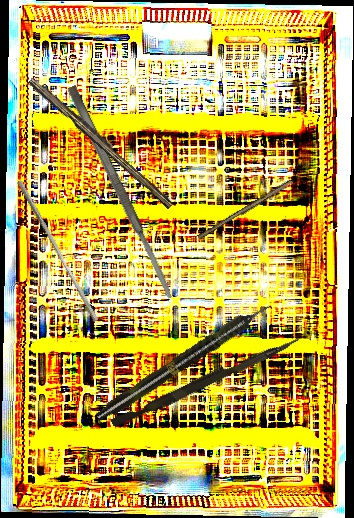Handpiece: (93, 298, 275, 425)
Pusher: (110, 329, 301, 433), (11, 179, 104, 323)
Scalpel Handle: (25, 74, 178, 210), (197, 177, 294, 243)
Spatula Surgical: (65, 84, 176, 301)
